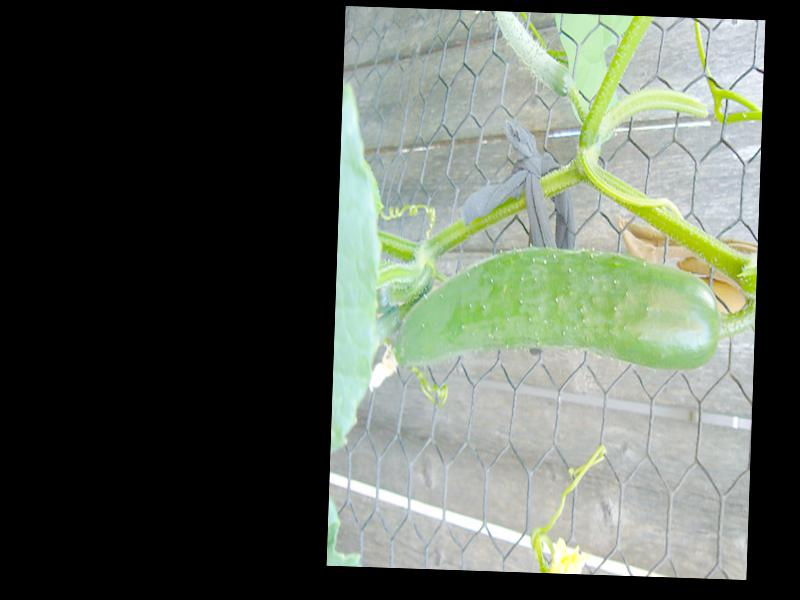Cucumber: (396, 240, 721, 378)
